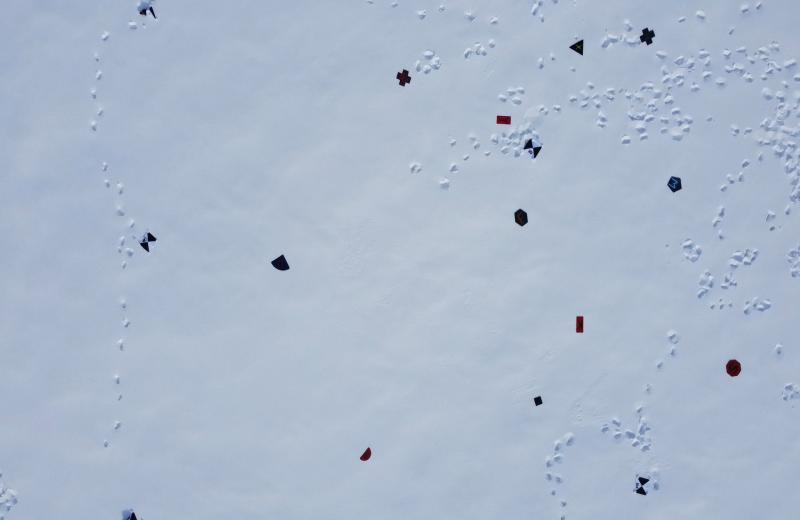Cross: (640, 24, 656, 46), (397, 69, 414, 89)
Hexagon: (514, 208, 529, 226)
Octagon: (725, 358, 742, 377)
Pentagon: (666, 176, 684, 194)
Quarter Circle: (270, 254, 290, 272)
Rectangle: (575, 314, 585, 334), (495, 113, 511, 125)
Semi Circle: (359, 447, 373, 462)
Square: (533, 395, 544, 406)
Triangle: (569, 38, 587, 56)
